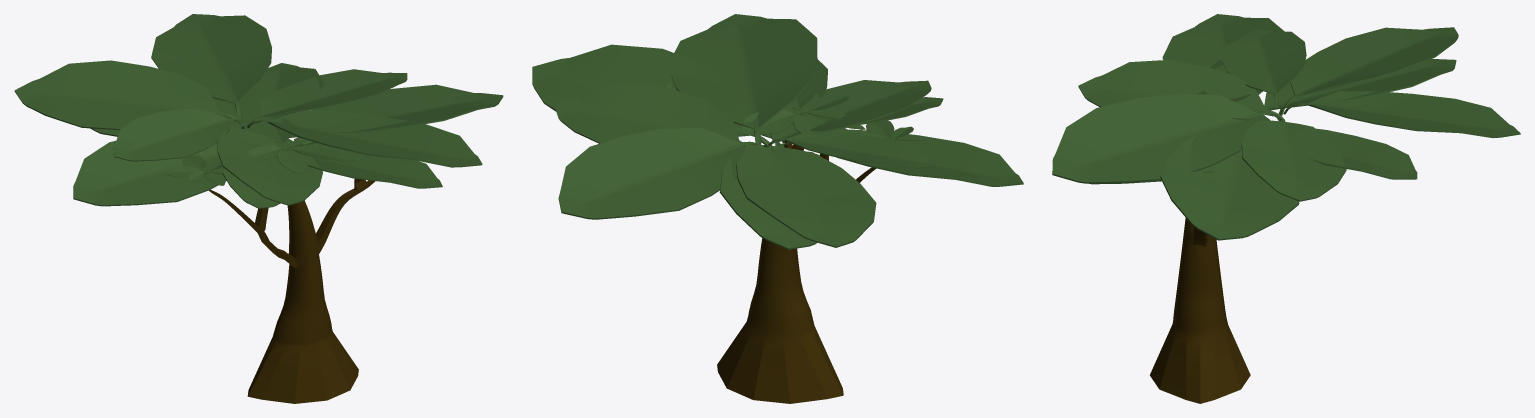
The model's file is Tree.fbx.
3 views of the same model, side by side, from view 1: azimuth 30°, elevation 25°; view 2: azimuth 150°, elevation 25°; view 3: azimuth 270°, elevation 25° (orthographic). The views are drawn at different scales.
Visible parts, largest first — view 1: Leaf4 (×3), Tree1, Leaf1 (×3), Leaf3 (×3), Leaf2 (×2), Leaf5 (×2), Leaf12, Leaf13, Leaf7; view 2: Leaf1 (×2), Leaf3 (×3), Leaf4 (×2), Tree1, Leaf2, Leaf5 (×2), Leaf12, Leaf7, Leaf13; view 3: Leaf1 (×2), Tree1, Leaf4 (×2), Leaf2 (×2), Leaf3 (×2), Leaf12, Leaf5.
Boxes of the visible parts, <box> form: Leaf4 (×3): <box>14,60,283,206</box>; Tree1: <box>209,146,375,403</box>; Leaf1 (×3): <box>247,84,503,167</box>; Leaf3 (×3): <box>90,14,292,149</box>; Leaf2 (×2): <box>230,63,407,129</box>; Leaf5 (×2): <box>113,109,280,208</box>; Leaf12: <box>217,126,322,205</box>; Leaf13: <box>307,143,442,188</box>; Leaf7: <box>277,150,307,173</box>; Leaf1 (×2): <box>532,14,817,145</box>; Leaf3 (×3): <box>558,109,819,249</box>; Leaf4 (×2): <box>736,129,1023,247</box>; Tree1: <box>717,141,876,403</box>; Leaf2: <box>554,84,748,146</box>; Leaf5 (×2): <box>768,97,943,168</box>; Leaf12: <box>767,80,931,145</box>; Leaf7: <box>802,95,849,114</box>; Leaf13: <box>761,59,827,146</box>; Leaf1 (×2): <box>1052,93,1299,240</box>; Tree1: <box>1150,218,1250,403</box>; Leaf4 (×2): <box>1162,14,1458,115</box>; Leaf2 (×2): <box>1241,119,1417,201</box>; Leaf3 (×2): <box>1264,59,1520,138</box>; Leaf12: <box>1078,60,1283,119</box>; Leaf5: <box>1221,29,1306,108</box>.
Bounding box in the file's own units: 69.61 × 40.74 × 61.93.
